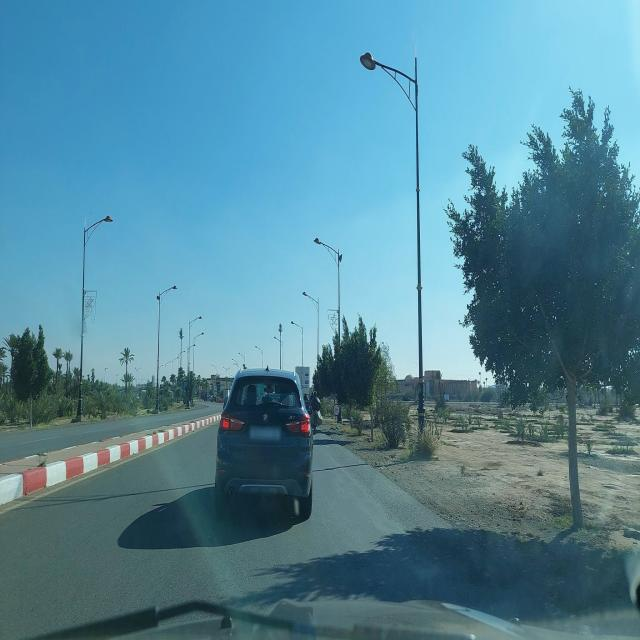car: (214, 363, 314, 521)
